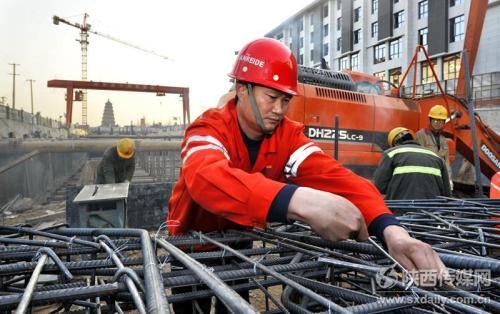gloves: (383, 224, 453, 288), (287, 183, 365, 239)
hard-hat: (227, 38, 302, 96), (387, 127, 416, 147), (117, 138, 135, 159), (428, 104, 448, 119)
person: (166, 36, 454, 314), (371, 126, 451, 201), (414, 104, 455, 195), (95, 138, 136, 184)
vest: (164, 97, 397, 247), (372, 145, 448, 196)
